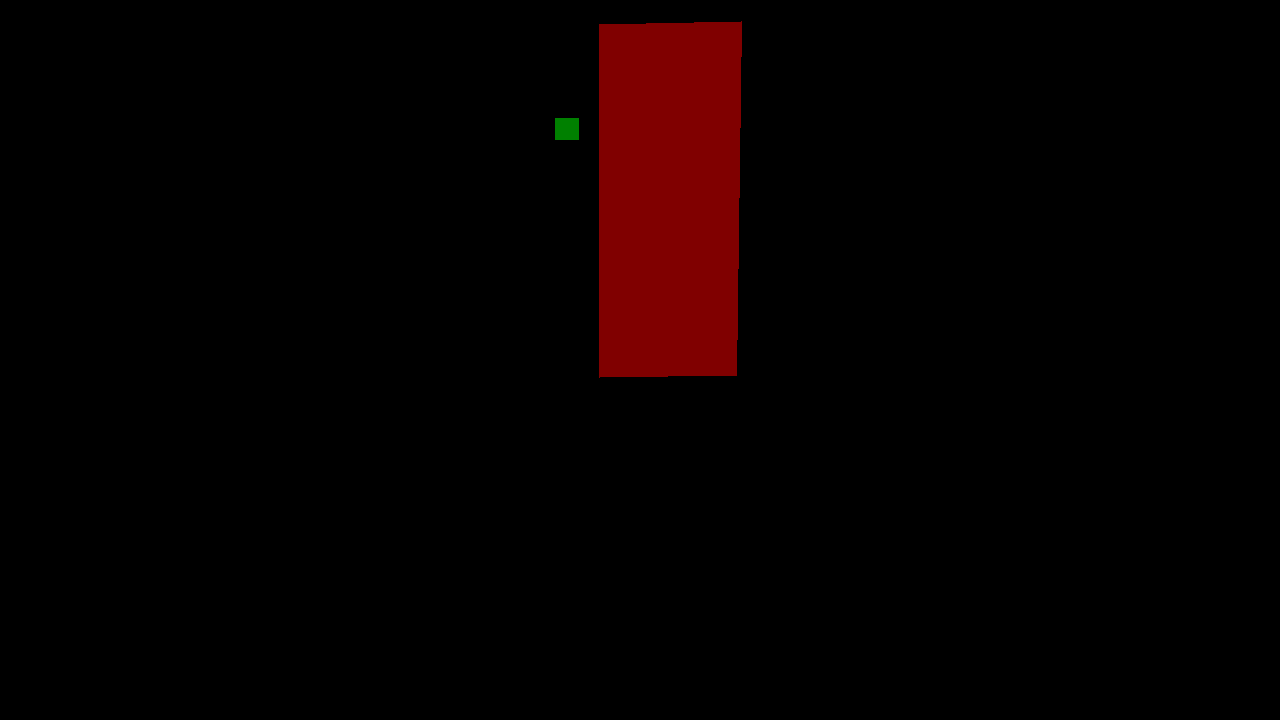door: (599, 21, 741, 377)
sign: (555, 118, 578, 139)
